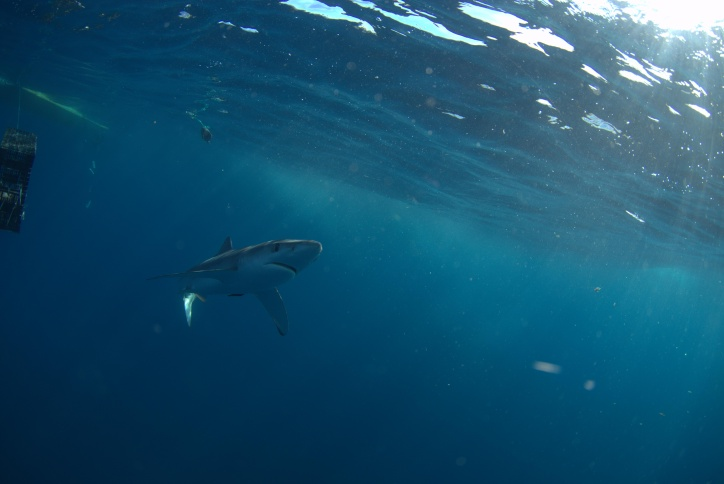Azul: (132, 217, 324, 354)
